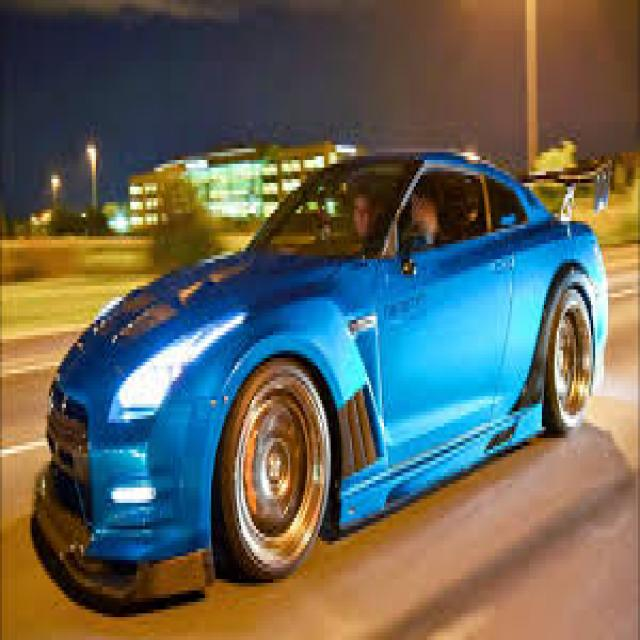car: (28, 175, 602, 560)
